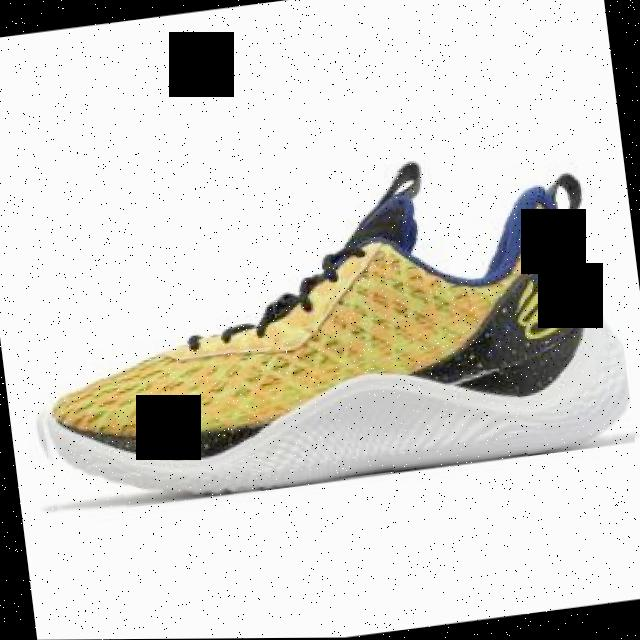shoe: (6, 143, 634, 519)
